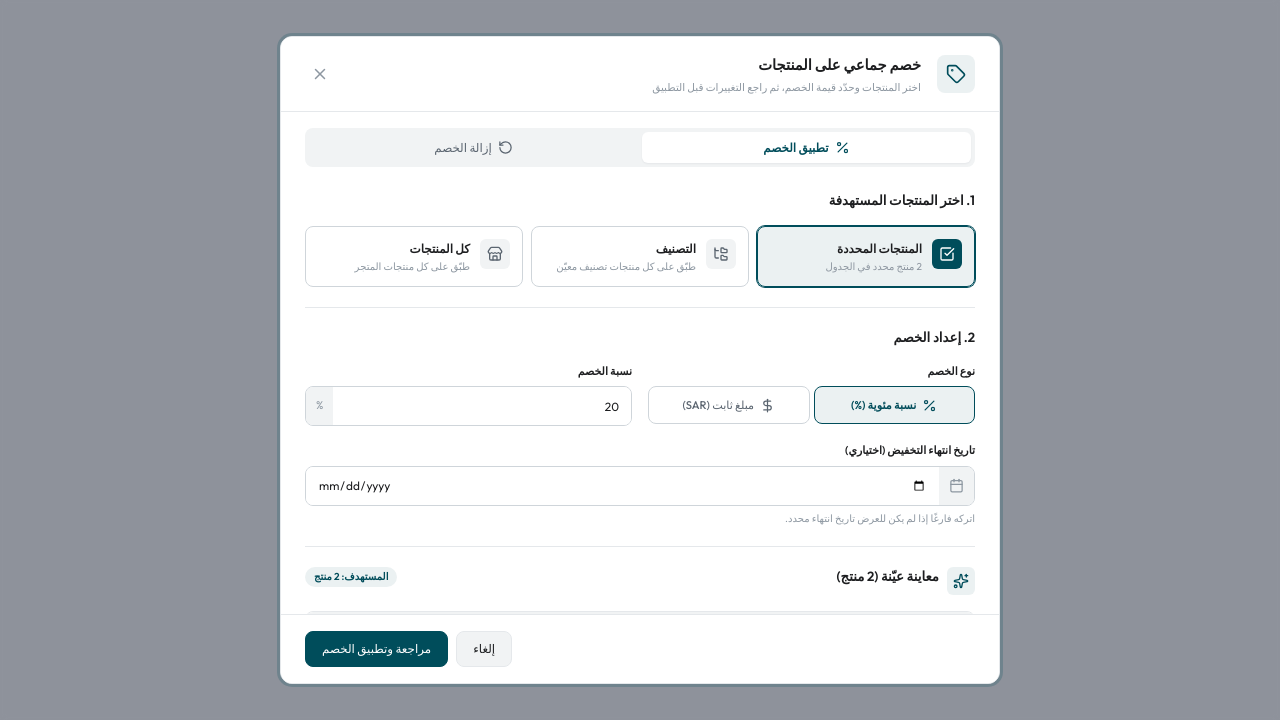
it: BulkDiscountModal › toggles between Apply Discount and Remove Discount modes
Click the button "إزالة الخصم" at [474, 148], box [309,132,638,163]
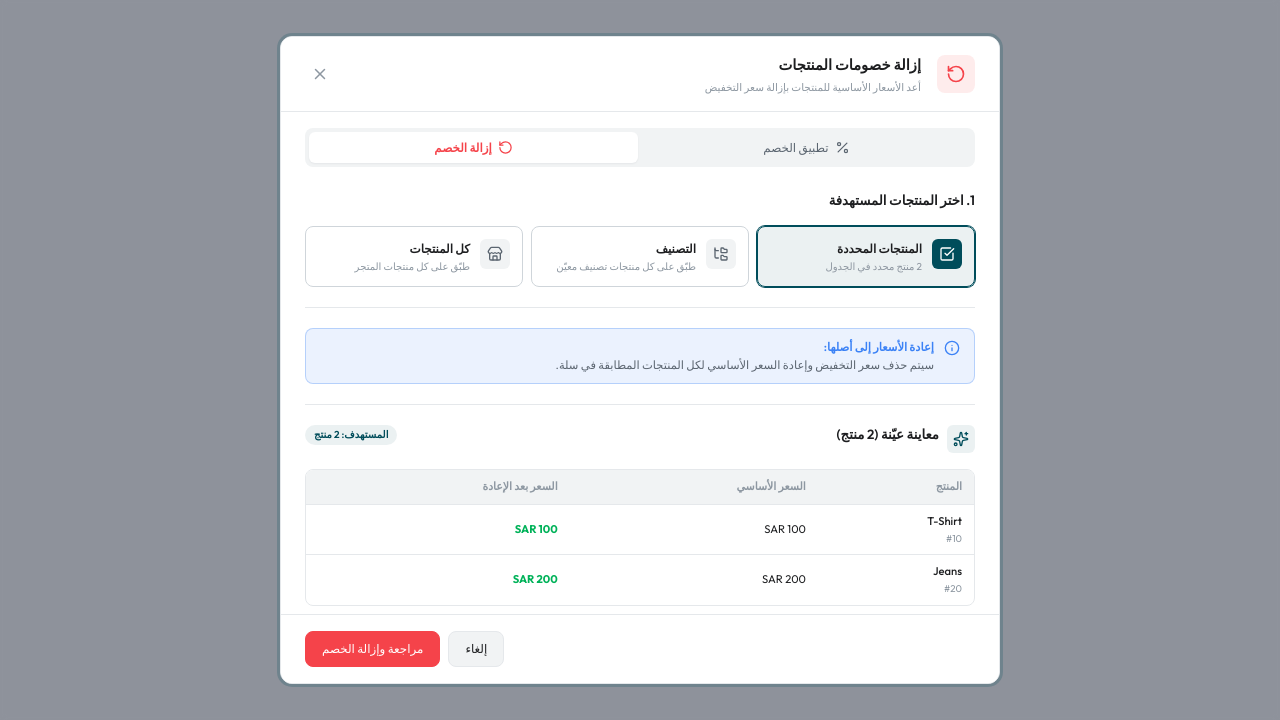
Expected: the heading "إزالة خصومات المنتجات" is shown, [778,55,921,74]
Expected: the text "إعادة الأسعار إلى أصلها:" is shown, [824,340,934,354]
Click the button "تطبيق الخصم" at [806, 148], box [642,132,971,163]
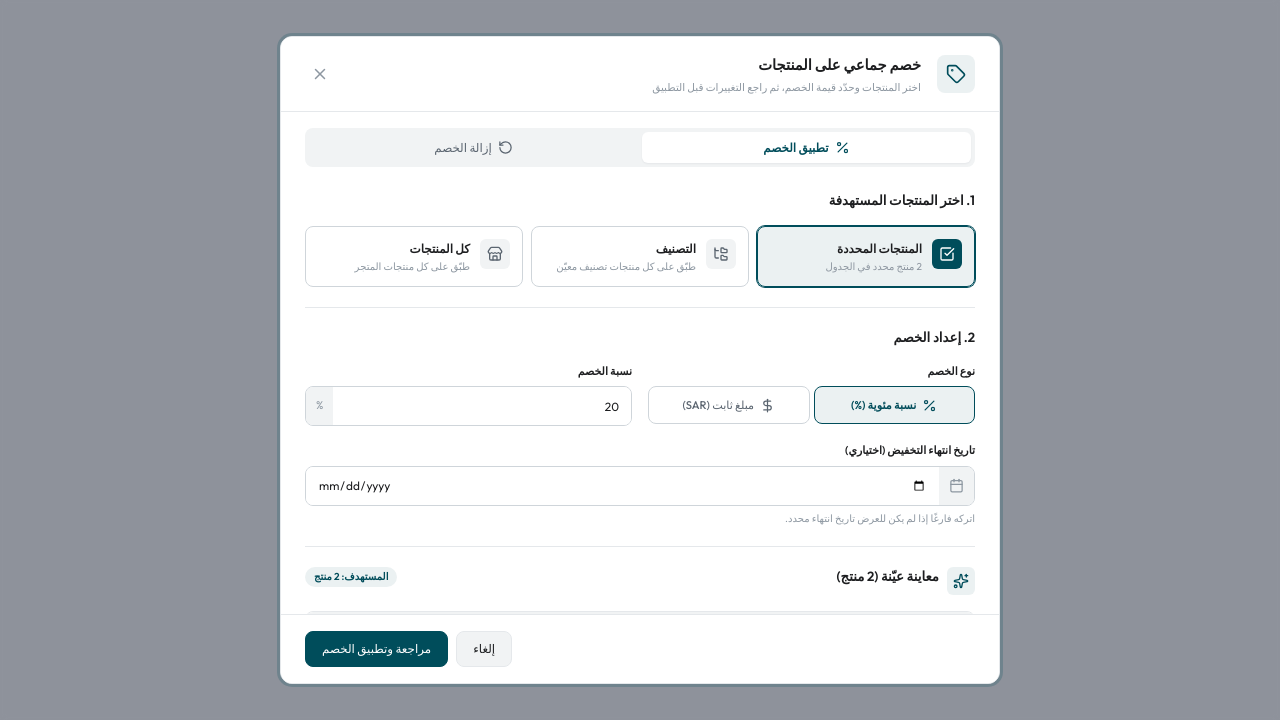
Expected: the heading "خصم جماعي على المنتجات" is shown, [758,55,921,74]
Expected: the heading "2. إعداد الخصم" is shown, [894,328,975,347]
